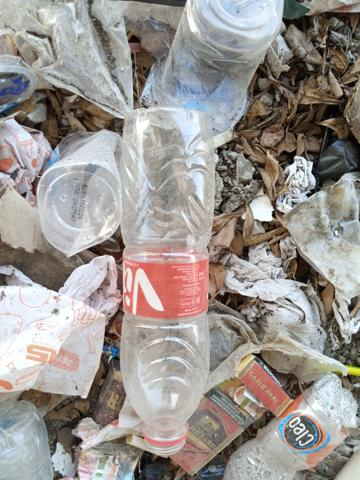botol_kaca: (112, 102, 218, 460)
